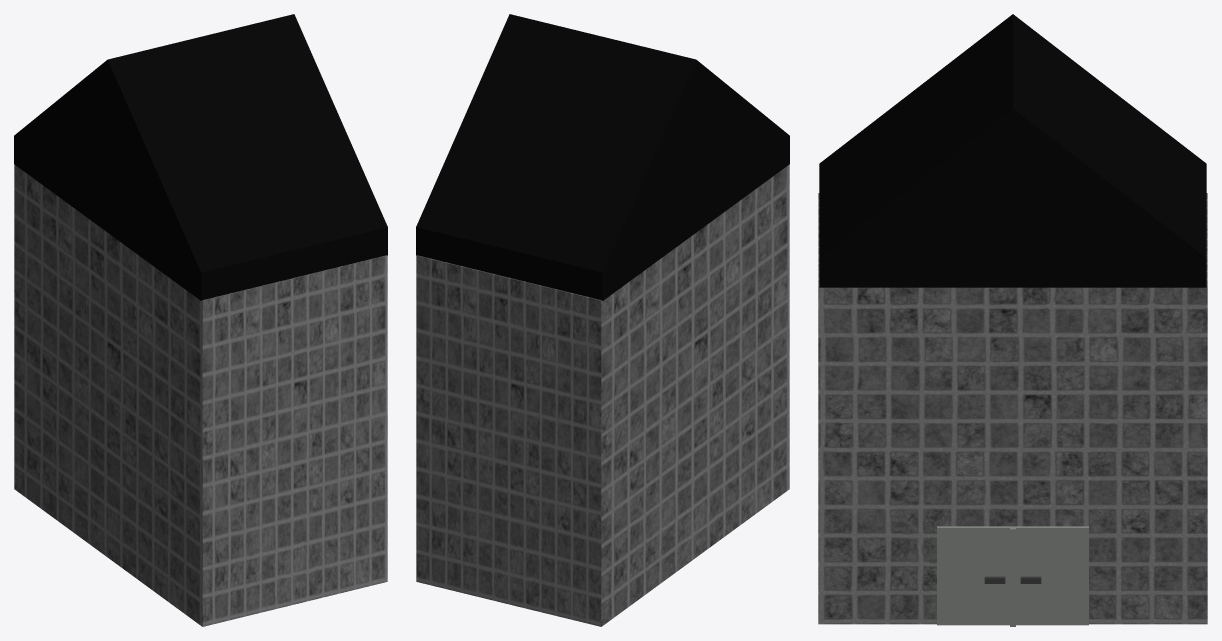
The model's file is house2.fbx.
3 views of the same model, side by side, from view 1: azimuth 30°, elevation 25°; view 2: azimuth 150°, elevation 25°; view 3: azimuth 270°, elevation 25° (orthographic). The views are drawn at different scales.
Parts seen in each view (by area): view 1: Cube.001, Cube; view 2: Cube.001, Cube; view 3: Cube.001, Cube, Cube.002.
Part boxes in pixels (x1,y1,x2,y2): Cube.001: [14, 164, 387, 626]; Cube: [14, 14, 387, 300]; Cube.001: [416, 164, 789, 626]; Cube: [416, 14, 789, 300]; Cube.001: [818, 193, 1207, 624]; Cube: [819, 14, 1206, 287]; Cube.002: [937, 526, 1088, 626].
Bounding box in the file's own units: 1415 × 3507 × 2399.
